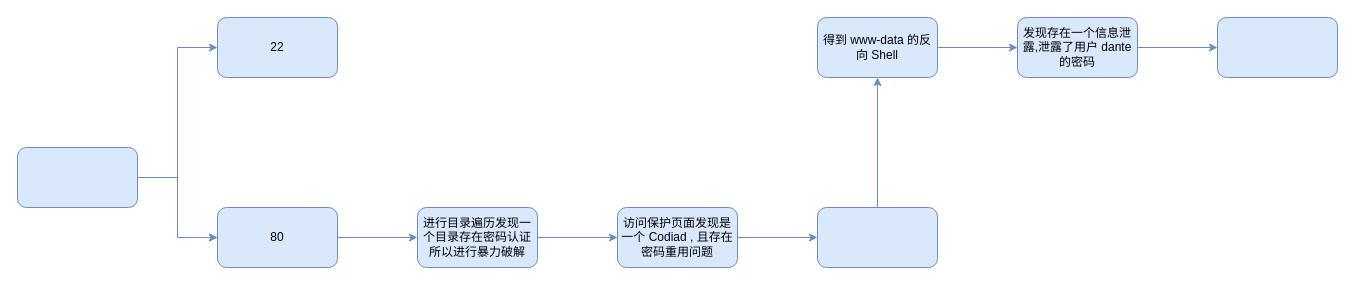
Some shapes in this 1355 by 285 pixel diagram are drawn without their labels. The centre of each missing label's shape, as x and y in pixels:
发现一个 RCE 漏洞: the point at 877,237
得到 dante 的密码并且发现用户具有SUDO 特权: the point at 1277,47
端口扫描: the point at 77,177
